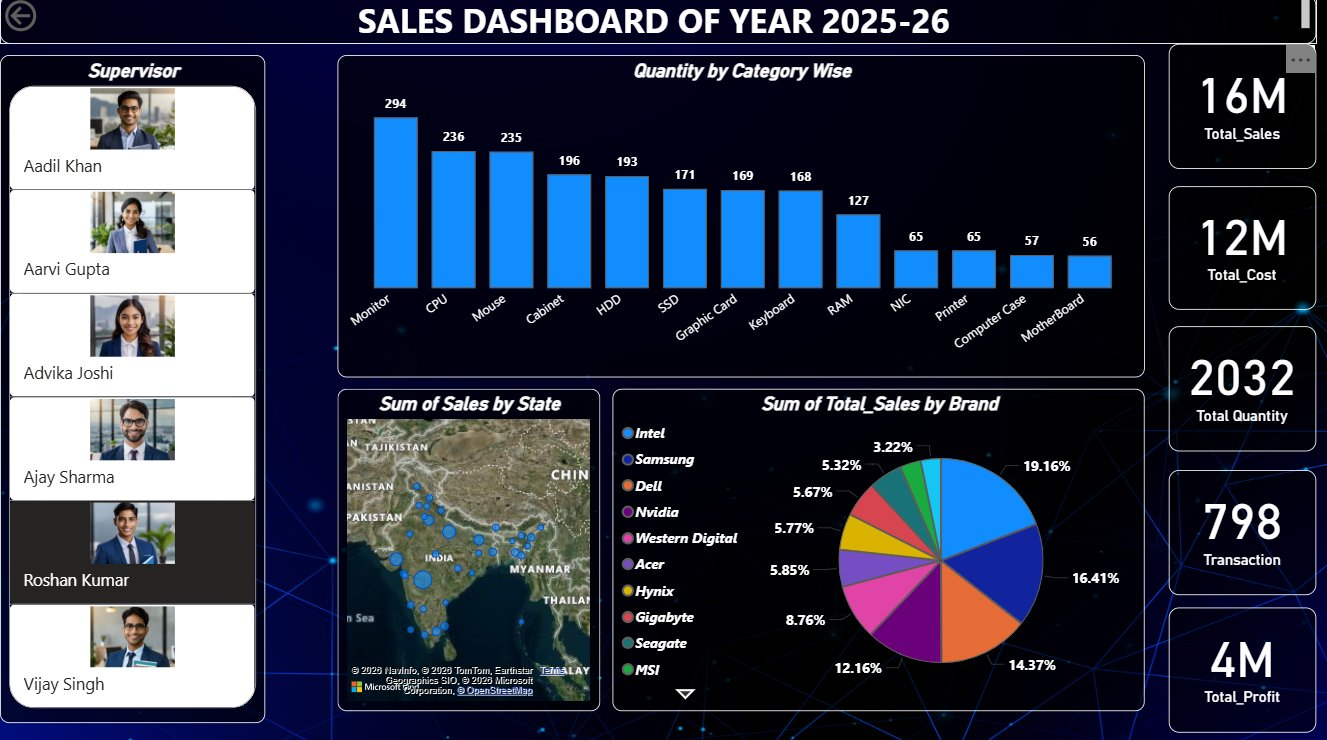

What the dashboard file says about the page in this screenshot:
{"tool":"powerbi","page":{"name":"Page 1","canvas":[1280,720],"ordinal":0},"visuals":[{"type":"textbox","box":[0,0,1270,47.1],"z":0},{"type":"card","fields":{"Values":["Sum(Sales_Data.Total_Sales)"]},"box":[1128,47.1,142.4,120.6],"z":1000},{"type":"actionButton","box":[0,0,100,40],"z":2000},{"type":"card","fields":{"Values":["Sum(Sales_Data.Total_Cost)"]},"box":[1128,184.6,142.4,119.4],"z":3000},{"type":"card","fields":{"Values":["Sum(Sales_Data.Quantity)"]},"box":[1128,319.7,142.4,120.6],"z":4000},{"type":"card","fields":{"Values":["CountNonNull(Sales_Data.Order_Number)"]},"box":[1128,458.4,142.4,120.6],"z":5000},{"type":"card","fields":{"Values":["Sales_Data.Total_Profit"]},"box":[1128,591.2,142.4,120.6],"z":6000},{"type":"clusteredColumnChart","title":"Quantity by Category Wise","fields":{"Y":["Sum(Sales_Data.Quantity)"],"Category":["Sales_Data.Category"]},"box":[325.7,57.9,779.4,311.3],"z":7000},{"type":"pieChart","fields":{"Y":["Sum(Sales_Data.Total_Sales)"],"Category":["Sales_Data.Brand"]},"box":[591.2,380,513.9,311.3],"z":8000},{"type":"map","fields":{"Category":["State_list.State"],"Size":["Sum(Sales_Data.Sales)"]},"box":[325.7,380,253.4,311.3],"z":9000},{"type":"advancedSlicerVisual","fields":{"Values":["Supervisor.Supervisor"]},"box":[0,57.5,256.2,645],"z":10000}]}

Visuals, with their boxes in screenshot pixels (x1, y1, x2, y2), scaled from the page's 1280x720 canvas onto the 1327x740 screenshot:
textbox: [0,0,1317,48]
card - Sum(Sales_Data.Total_Sales): [1169,48,1317,172]
actionButton: [0,0,104,41]
card - Sum(Sales_Data.Total_Cost): [1169,190,1317,312]
card - Sum(Sales_Data.Quantity): [1169,329,1317,453]
card - CountNonNull(Sales_Data.Order_Number): [1169,471,1317,595]
card - Sales_Data.Total_Profit: [1169,608,1317,732]
"Quantity by Category Wise" clusteredColumnChart: [338,60,1146,379]
pieChart - Sum(Sales_Data.Total_Sales) x Sales_Data.Brand: [613,391,1146,711]
map - State_list.State x Sum(Sales_Data.Sales): [338,391,600,711]
advancedSlicerVisual - Supervisor.Supervisor: [0,59,266,722]
